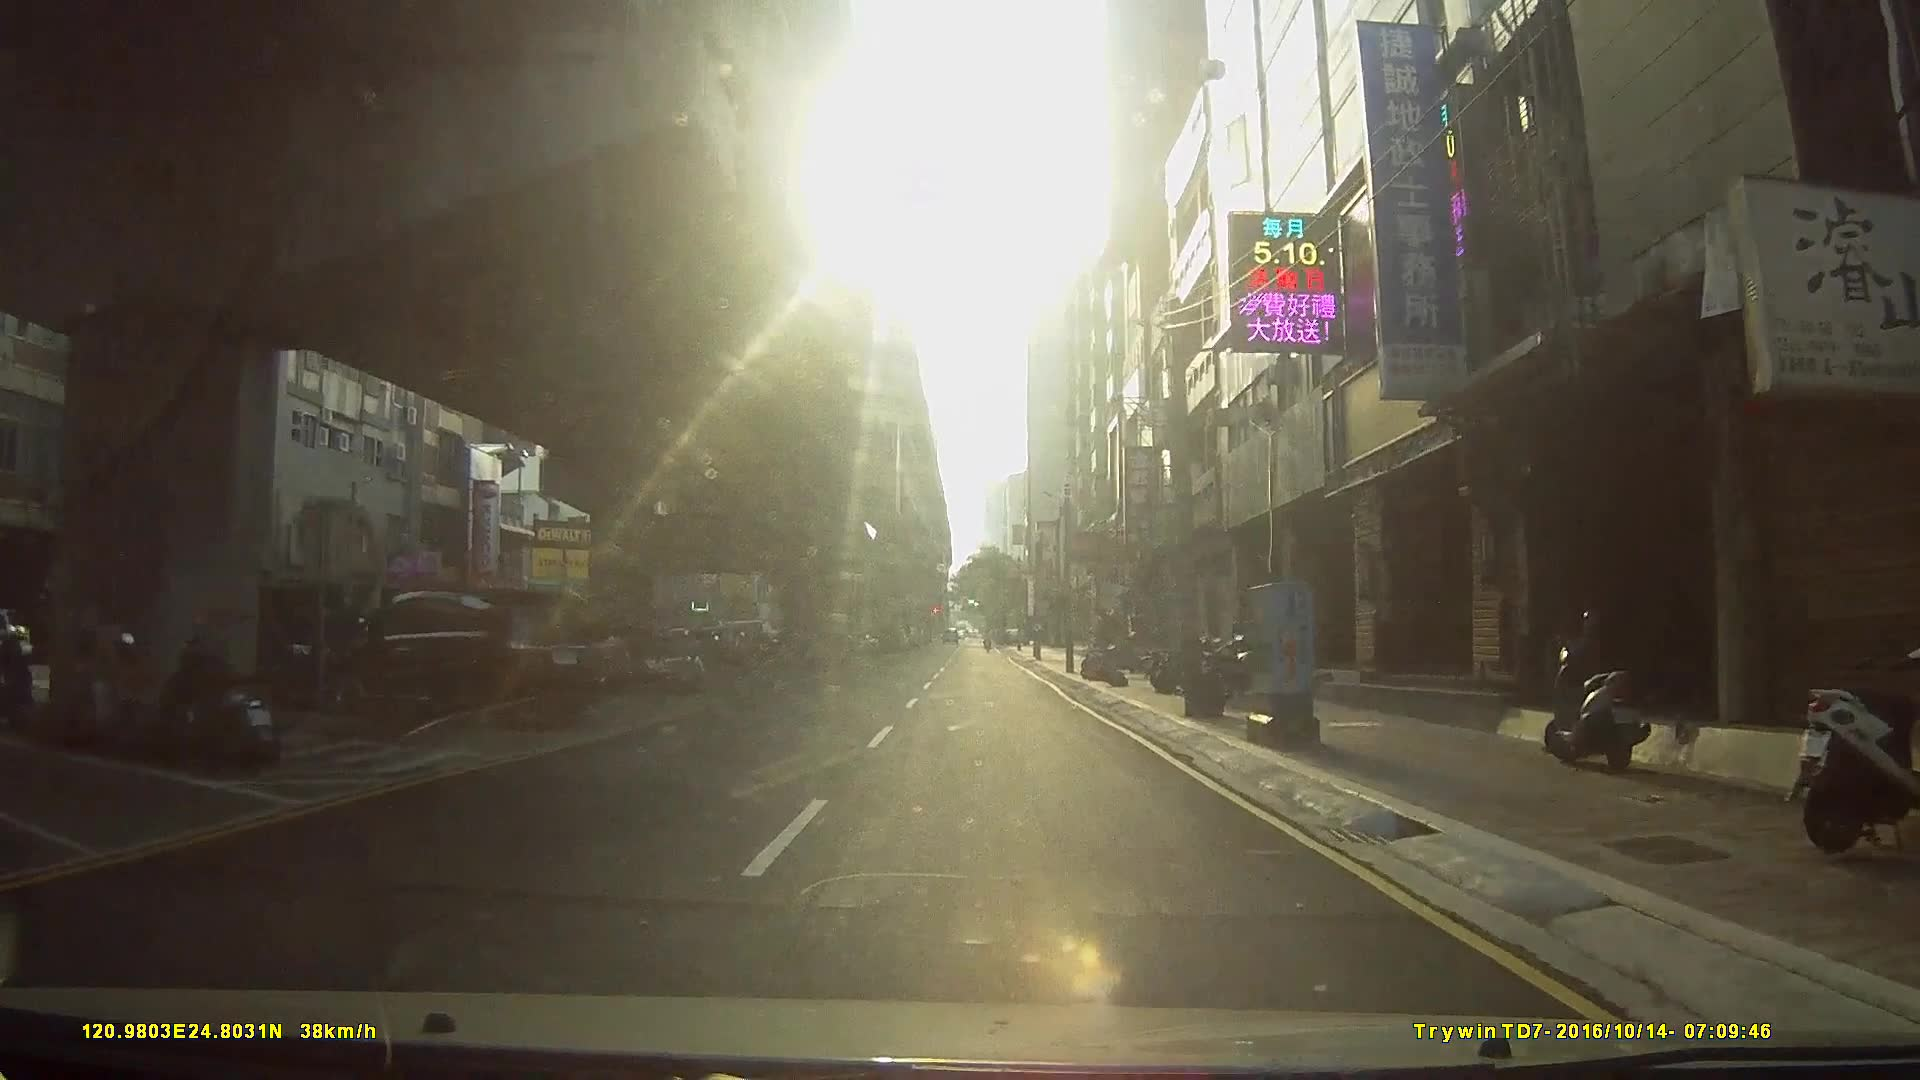vehicle: (313, 582, 603, 725), (178, 578, 357, 702), (575, 620, 702, 692)
